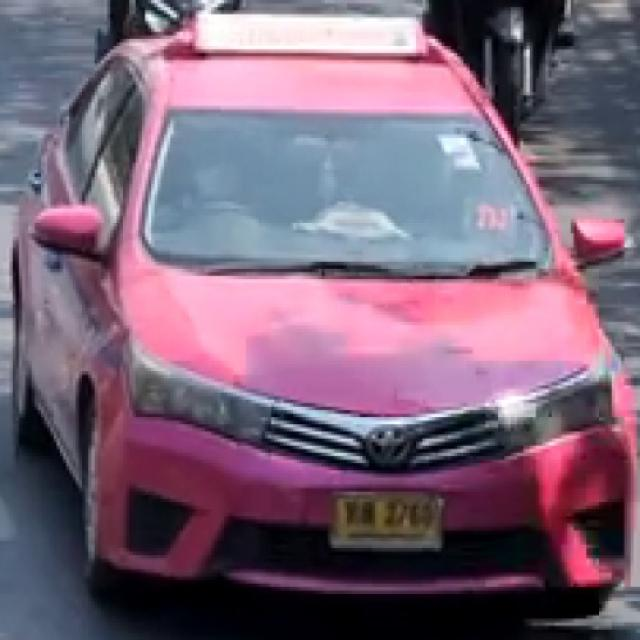plate: (334, 492, 440, 544)
